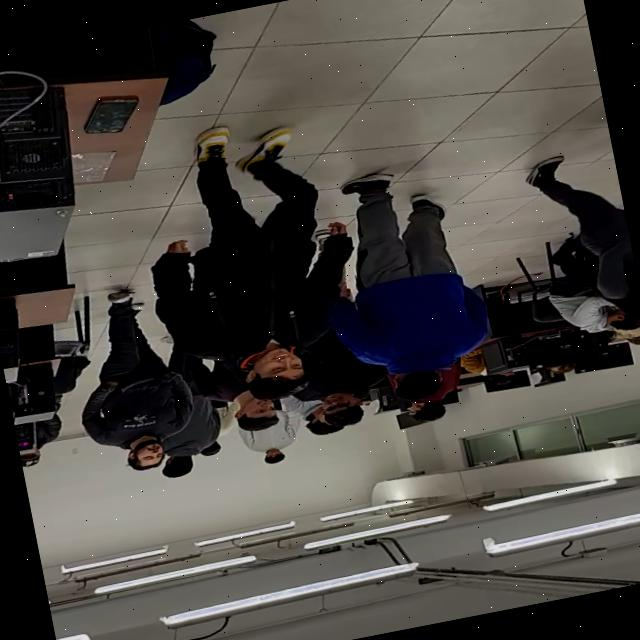Persona: (133, 135, 353, 413), (344, 168, 495, 402), (73, 276, 188, 480), (206, 384, 311, 446), (157, 404, 239, 481), (387, 375, 490, 434), (304, 374, 376, 441), (240, 419, 322, 474)
